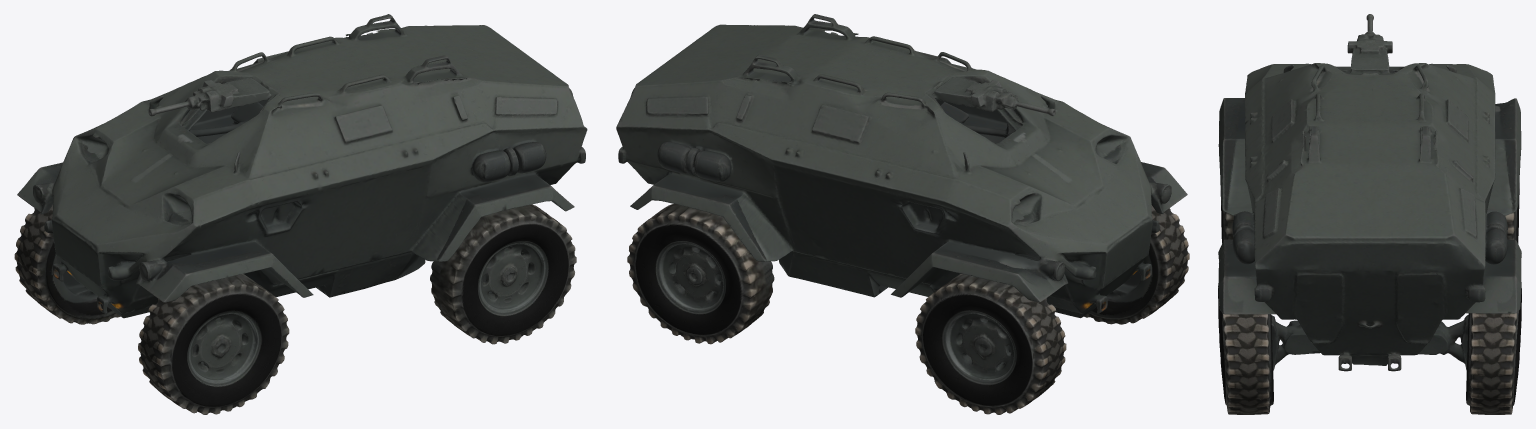
File: Meshy_AI_Realistic_futuristic__1027064817_texture.glb
3 views of the same model, side by side, from view 1: azimuth 30°, elevation 25°; view 2: azimuth 150°, elevation 25°; view 3: azimuth 270°, elevation 25° (orthographic).
Size of the model in its own units: 1.9 by 1.03 by 1.09.
Materials: 1 (1 with a texture image).
